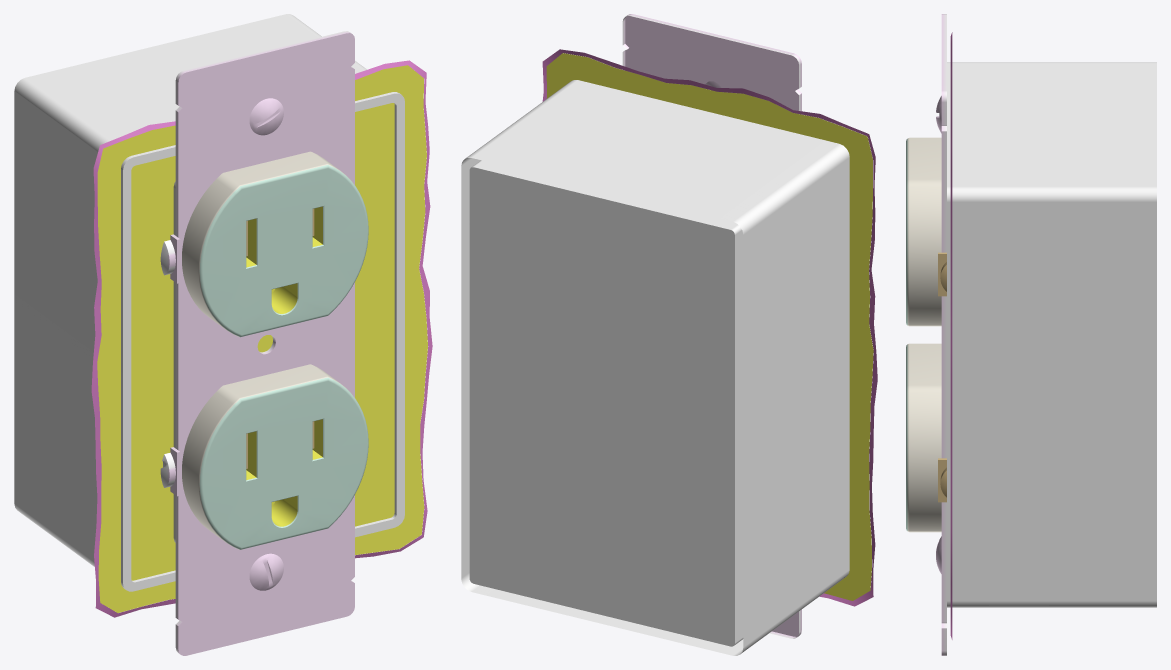
The model's file is Kit_OutletBare.fbx.
3 views of the same model, side by side, from view 1: azimuth 30°, elevation 25°; view 2: azimuth 150°, elevation 25°; view 3: azimuth 270°, elevation 25° (orthographic). The views are drawn at different scales.
Visible parts, largest first — view 1: Kit_OutletBare_LOD0; view 2: Kit_OutletBare_LOD0; view 3: Kit_OutletBare_LOD0.
Boxes of the visible parts, <box> form: Kit_OutletBare_LOD0: <box>14,14,432,655</box>; Kit_OutletBare_LOD0: <box>461,14,877,655</box>; Kit_OutletBare_LOD0: <box>906,14,1156,655</box>.
Size of what is drawn, in the model's own units: 0.0653 by 0.1067 by 0.043.
